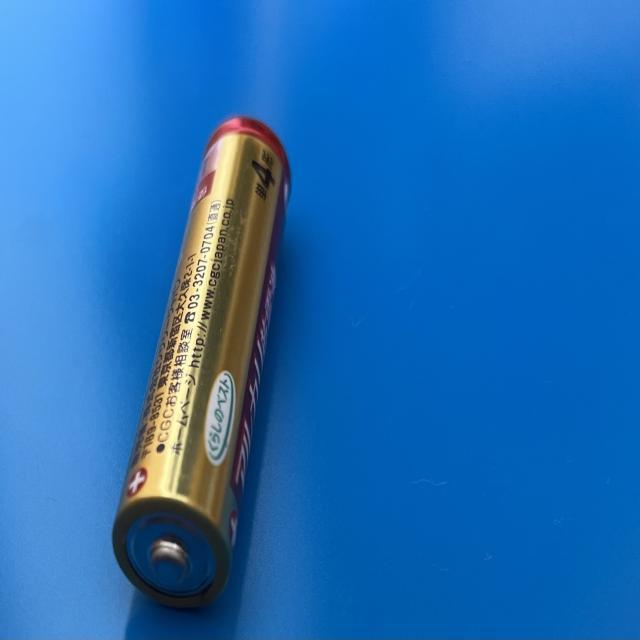hazardous waste: (110, 115, 294, 613)
